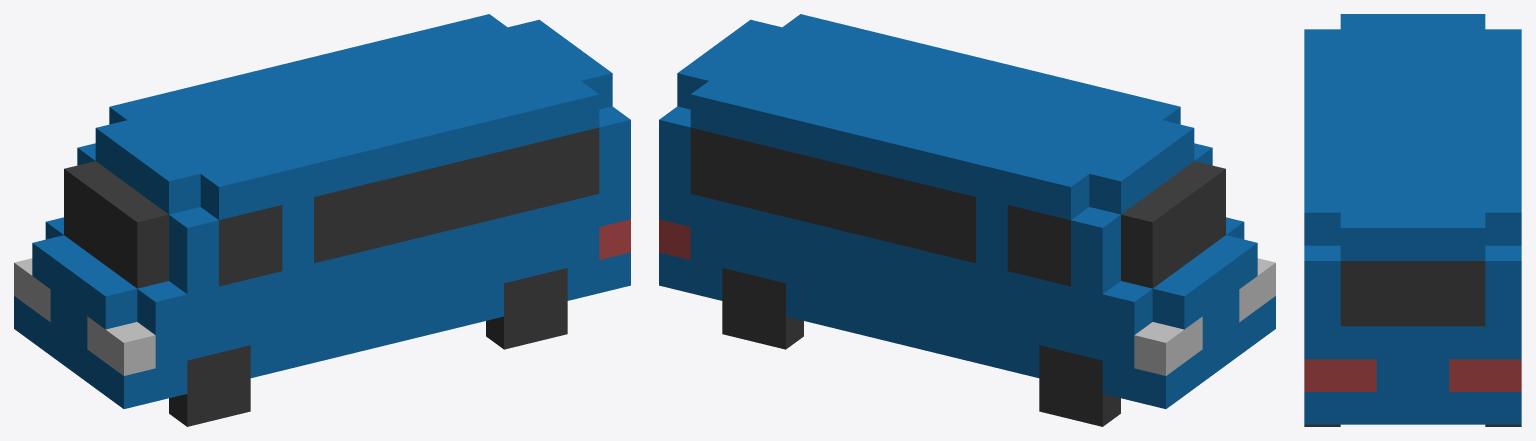
Rendered from bus-small-blue.gltf.
3 renders of one model, left to right at view 1: azimuth 30°, elevation 25°; view 2: azimuth 150°, elevation 25°; view 3: azimuth 270°, elevation 25°, orthographic.
Visible parts, largest first — view 1: model, wheels; view 2: model, wheels; view 3: model, wheels.
Boxes of the visible parts, left/top/right/bottom form: model: left=14, top=14, right=630, bottom=408; wheels: left=169, top=268, right=567, bottom=426; model: left=659, top=14, right=1275, bottom=408; wheels: left=722, top=268, right=1120, bottom=426; model: left=1304, top=14, right=1521, bottom=424; wheels: left=1304, top=424, right=1521, bottom=426.
Bounding box in the file's own units: 1.6 × 0.7 × 0.6.
2 materials, 2 textured.
